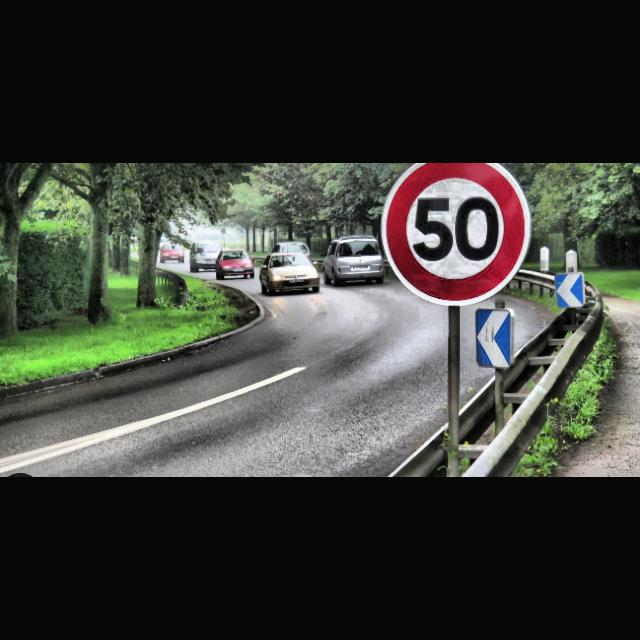speed_50: (380, 164, 534, 308)
